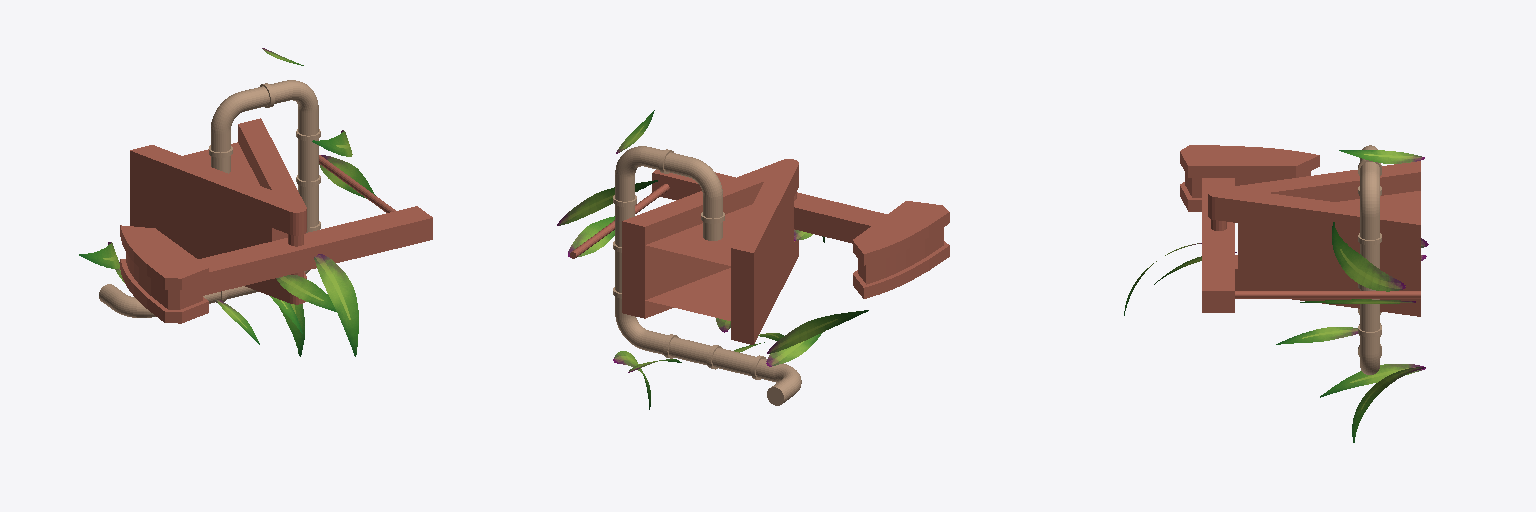
3 views of the same model, side by side, from view 1: azimuth 30°, elevation 25°; view 2: azimuth 150°, elevation 25°; view 3: azimuth 270°, elevation 25° (orthographic).
Parts seen in each view (by area): view 1: object_24, object_2, object_5, object_6, object_8, object_3, object_11, object_19, object_21; view 2: object_24, object_9, object_5, object_8, object_11, object_13, object_21, object_15, object_6, object_19, object_22; view 3: object_24, object_15, object_8, object_6, object_16, object_17, object_1, object_18, object_13.
Boxes of the visible parts, box(x1,y1,x2,y2) form: object_24: box(120, 118, 432, 323); object_2: box(314, 254, 358, 356); object_5: box(211, 86, 269, 152); object_6: box(296, 129, 320, 227); object_8: box(270, 80, 318, 135); object_3: box(276, 275, 336, 311); object_11: box(99, 284, 155, 317); object_19: box(319, 155, 375, 198); object_21: box(79, 242, 119, 268); object_24: box(570, 159, 949, 344); object_9: box(663, 334, 755, 375); object_5: box(664, 152, 722, 218); object_8: box(615, 146, 663, 201); object_11: box(756, 359, 801, 405); object_13: box(615, 297, 668, 354); object_21: box(767, 310, 868, 353); object_15: box(557, 180, 657, 225); object_6: box(613, 195, 636, 292); object_19: box(568, 216, 614, 257); object_22: box(766, 333, 821, 366); object_24: box(1180, 145, 1420, 316); object_15: box(1332, 222, 1405, 291); object_8: box(1360, 162, 1379, 239); object_6: box(1358, 233, 1381, 331); object_16: box(1320, 364, 1425, 397); object_17: box(1352, 367, 1425, 442); object_1: box(1276, 327, 1357, 344); object_18: box(1339, 150, 1424, 163); object_13: box(1360, 335, 1379, 374).
Bounding box in the file's own units: 1.77 × 1.69 × 1.65.
Materials: 3 (1 with a texture image).